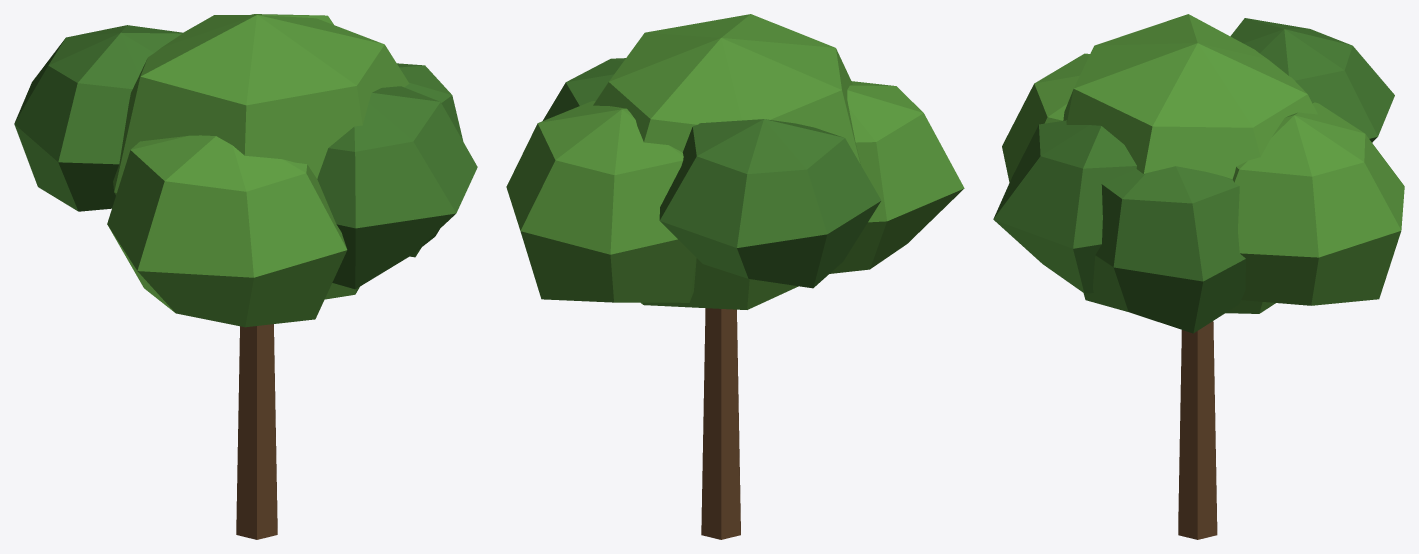
File: tree_oak_a.glb
3 renders of one model, left to right at view 1: azimuth 30°, elevation 25°; view 2: azimuth 150°, elevation 25°; view 3: azimuth 270°, elevation 25°, orthographic. The views are drawn at different scales.
Visible parts, largest first — view 1: tree_oak_a; view 2: tree_oak_a; view 3: tree_oak_a.
Part boxes in pixels (x1,y1,x2,y2): tree_oak_a: (14,14,477,539); tree_oak_a: (506,14,964,539); tree_oak_a: (993,14,1404,539).
Size of the model in its own units: 5.6 by 7.16 by 5.48.
